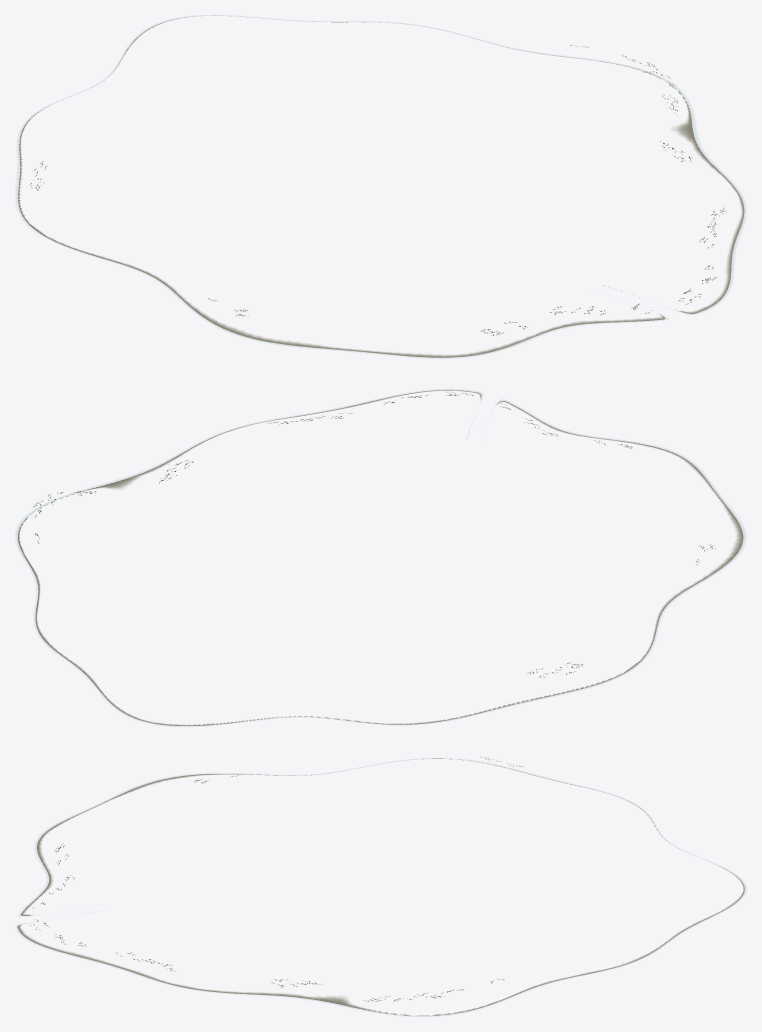
File: strandline.glb
3 renders of one model, top to bottom at view 1: azimuth 30°, elevation 25°; view 2: azimuth 150°, elevation 25°; view 3: azimuth 270°, elevation 25°, orthographic. The views are drawn at different scales.
Size of the model in its own units: 822 by 24.17 by 980.
Materials: 6 (2 with a texture image).
